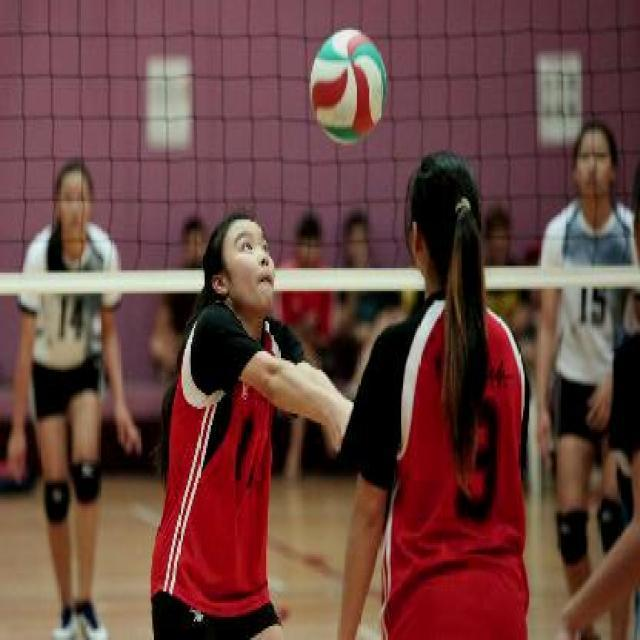volleyball: (308, 26, 389, 146)
